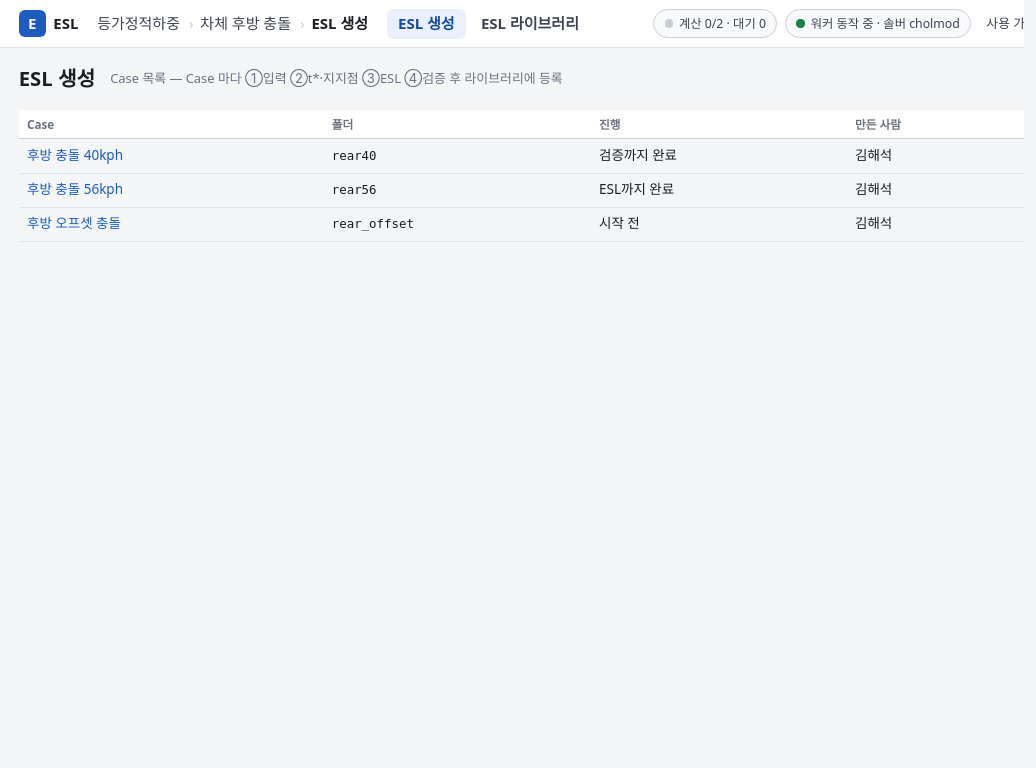
it: V-L3-12 상태 칩·서랍 › 토글·닫기 버튼·Esc(서랍 안 포커스) → 닫고 여는 칩으로 포커스 복귀, aria-expanded·aria-controls
Click the button with test id "chip-queue".
click(715, 24)  # box [653, 9, 778, 38]
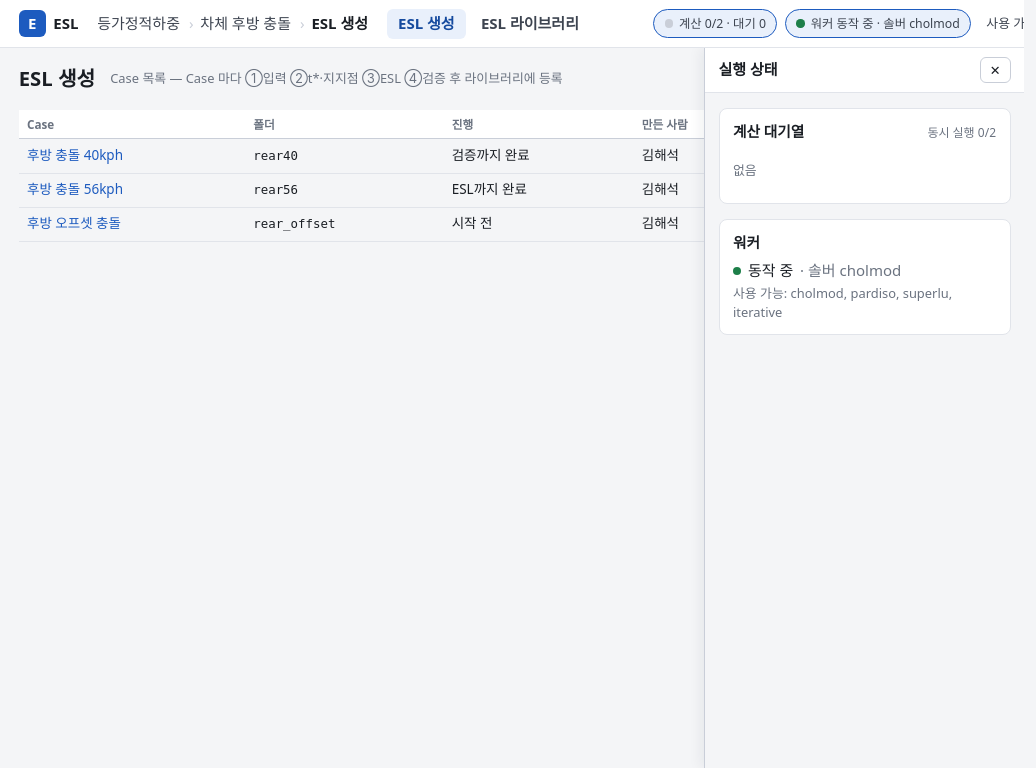
Check: the button with test id "chip-queue" is expanded
Check: the button with test id "chip-worker" is expanded, box [785, 9, 971, 38]
Check: the heading "계산 대기열" is shown, box [733, 120, 804, 140]
Click the button with test id "chip-queue".
click(715, 24)  # box [653, 9, 778, 38]
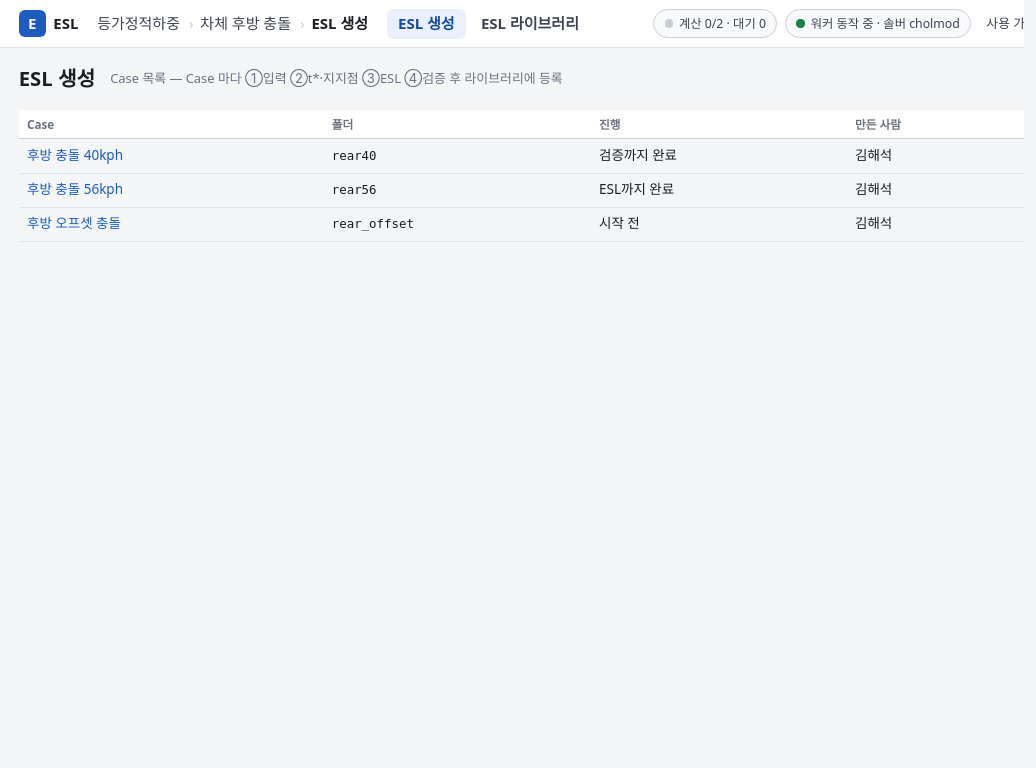
Check: the heading "실행 상태" is gone
Click the button with test id "chip-worker".
click(878, 24)  # box [785, 9, 971, 38]
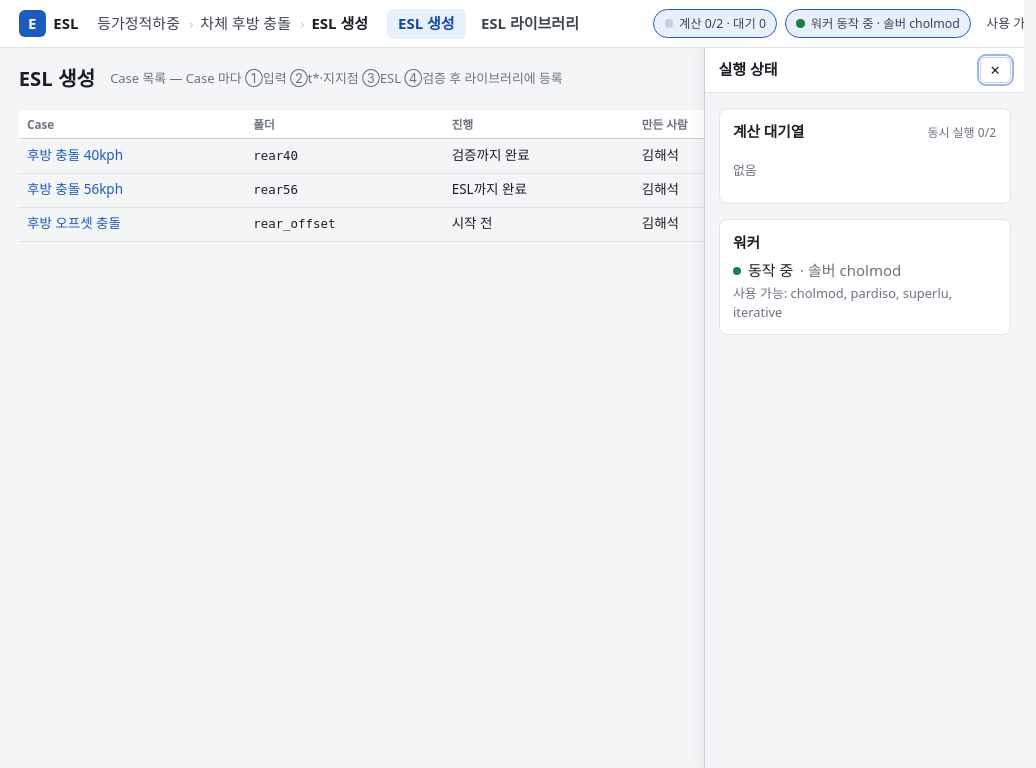
Press Escape in the button "✕", box [980, 57, 1010, 83]
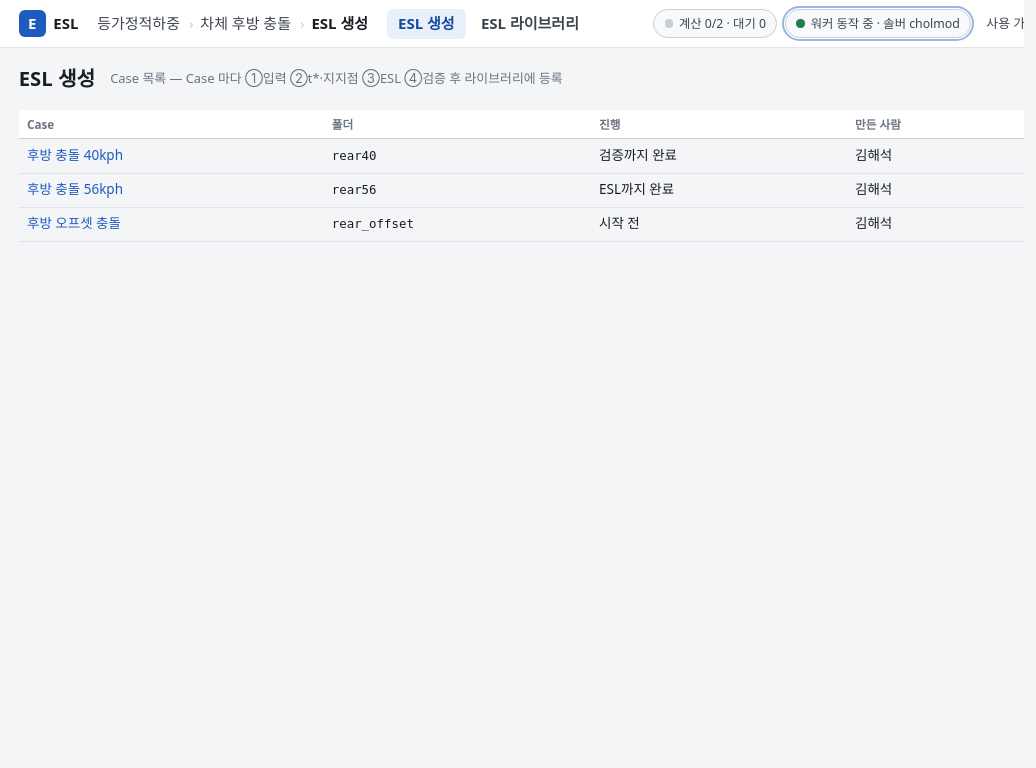
Check: the heading "실행 상태" is gone
Click the button with test id "chip-queue".
click(715, 24)  # box [653, 9, 778, 38]
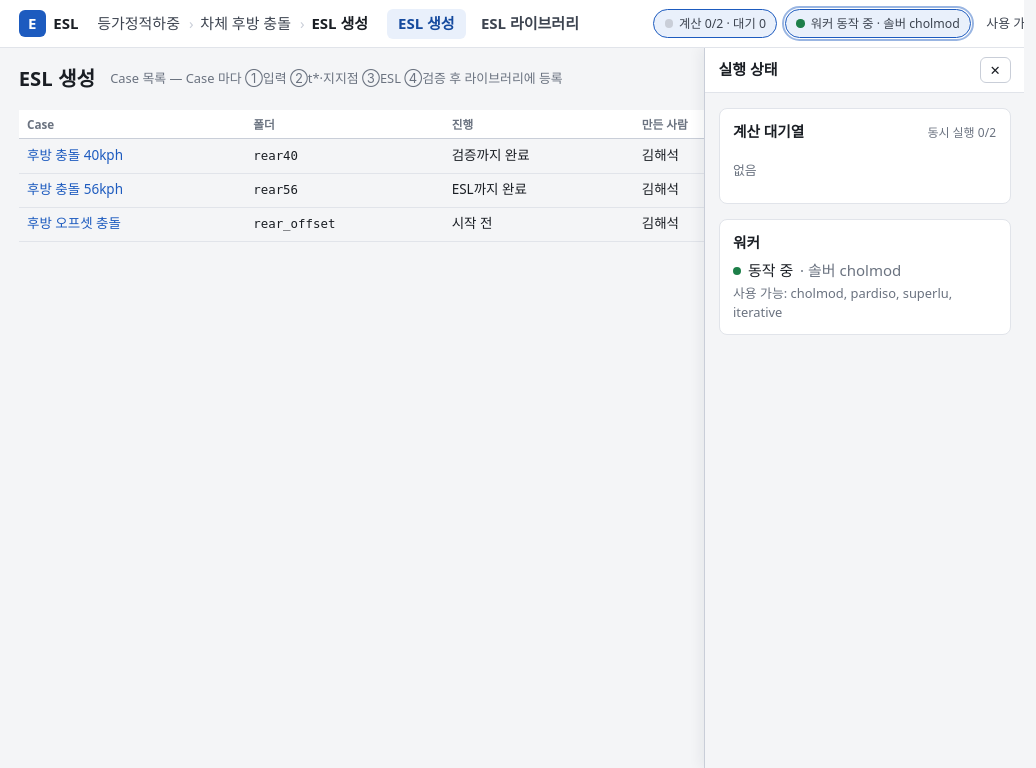
Click the button named "실행 상태 닫기".
click(995, 70)  # box [980, 57, 1010, 83]
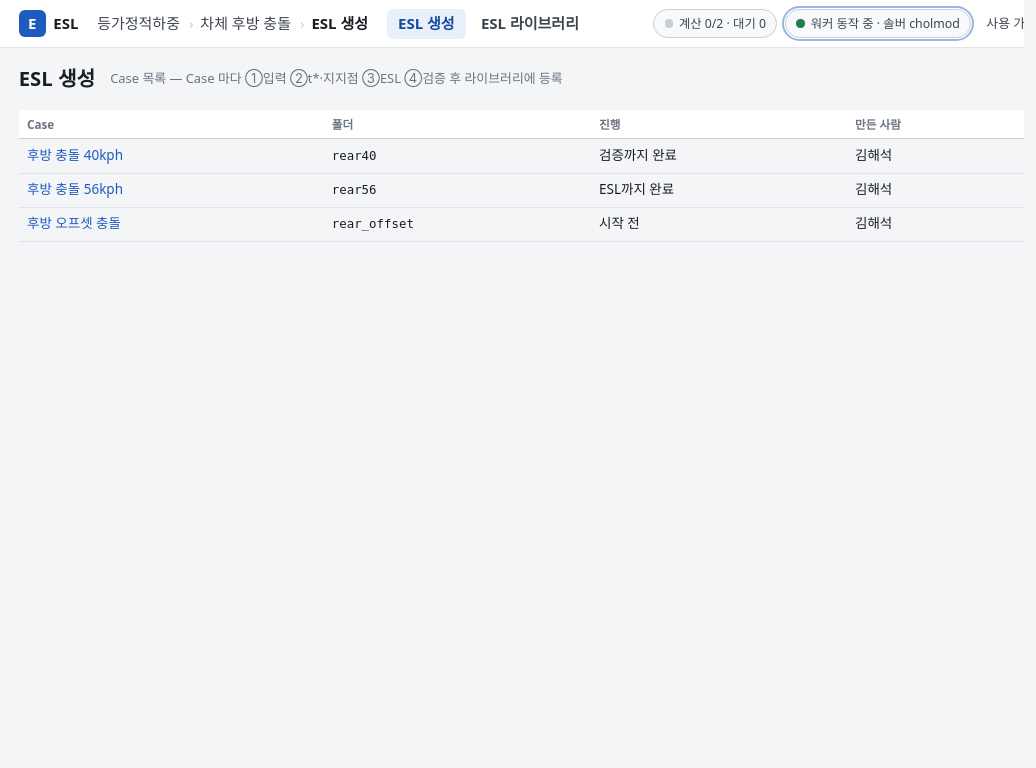
Check: the heading "실행 상태" is gone
